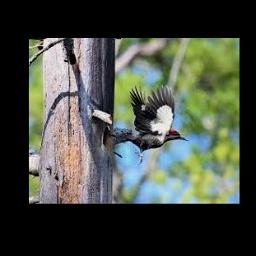Woodpecker: (109, 85, 189, 164)
